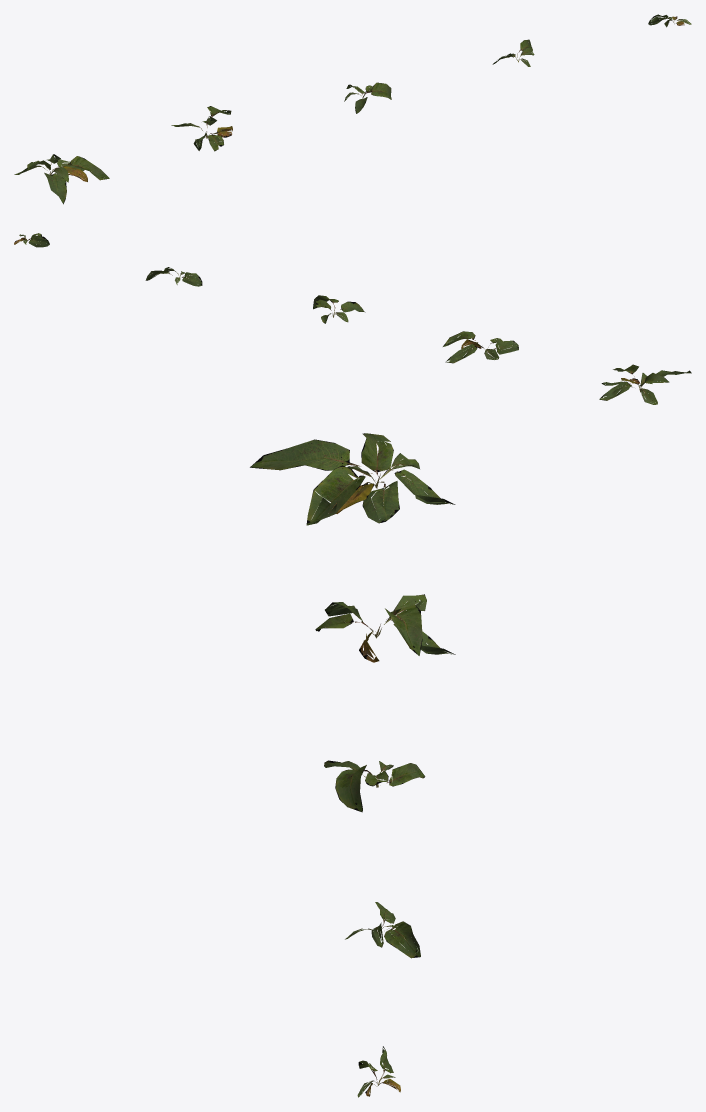
The model's file is weed_plant_02.glb.
3 renders of one model, top to bottom at view 1: azimuth 30°, elevation 25°; view 2: azimuth 150°, elevation 25°; view 3: azimuth 270°, elevation 25°, orthographic. The views are drawn at different scales.
Parts seen in each view (by area): view 1: weed_plant_02_a_LOD0, weed_plant_02_b_LOD0, weed_plant_02_c_LOD0, weed_plant_02_d_LOD0; view 2: weed_plant_02_a_LOD0, weed_plant_02_b_LOD0, weed_plant_02_c_LOD0, weed_plant_02_d_LOD0, weed_plant_02_e_LOD0; view 3: weed_plant_02_a_LOD0, weed_plant_02_b_LOD0, weed_plant_02_c_LOD0, weed_plant_02_d_LOD0.
Part boxes in pixels (x1=…): weed_plant_02_a_LOD0: x1=14, y1=154, x2=109, y2=204; weed_plant_02_b_LOD0: x1=171, y1=106, x2=232, y2=151; weed_plant_02_c_LOD0: x1=344, y1=82, x2=391, y2=113; weed_plant_02_d_LOD0: x1=492, y1=39, x2=534, y2=66; weed_plant_02_a_LOD0: x1=599, y1=364, x2=691, y2=404; weed_plant_02_b_LOD0: x1=443, y1=331, x2=518, y2=363; weed_plant_02_c_LOD0: x1=313, y1=295, x2=365, y2=323; weed_plant_02_d_LOD0: x1=145, y1=267, x2=202, y2=286; weed_plant_02_e_LOD0: x1=14, y1=233, x2=49, y2=247; weed_plant_02_a_LOD0: x1=250, y1=433, x2=455, y2=525; weed_plant_02_b_LOD0: x1=315, y1=594, x2=455, y2=662; weed_plant_02_c_LOD0: x1=324, y1=760, x2=425, y2=812; weed_plant_02_d_LOD0: x1=345, y1=902, x2=420, y2=958.
Bounding box in the file's own units: 2.13 × 0.0744 × 0.2919.
2 materials, 2 textured.
